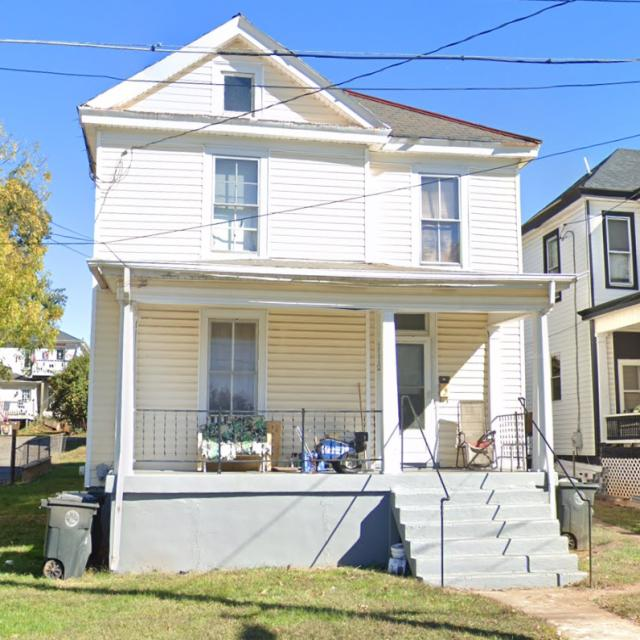House: (76, 14, 588, 591), (521, 147, 640, 511), (1, 325, 91, 427)
